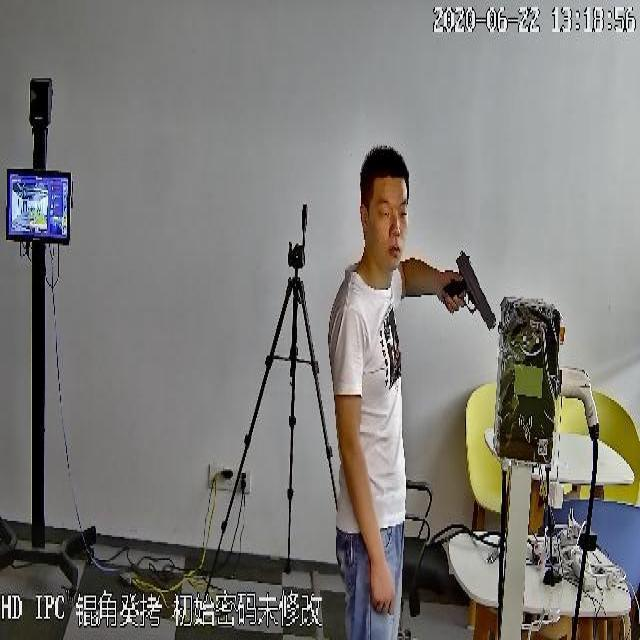pistol: (444, 250, 493, 332)
